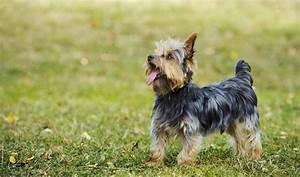dog: (142, 31, 262, 167)
